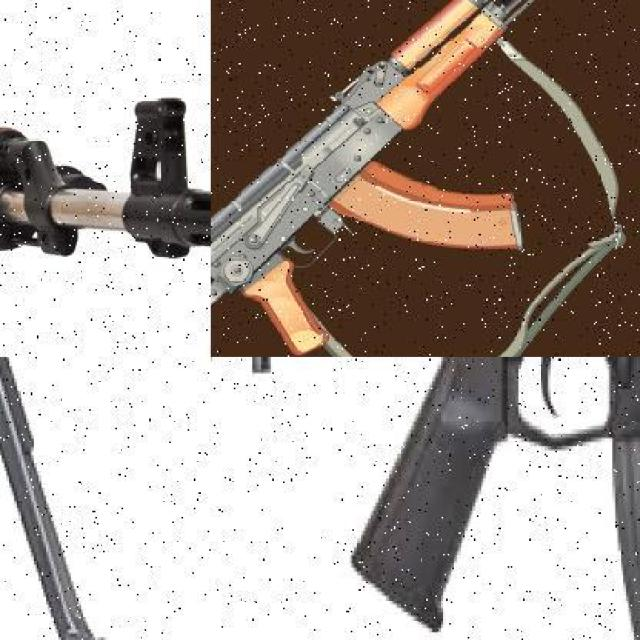weapon: (212, 3, 540, 355), (319, 355, 636, 640), (0, 321, 106, 640)
